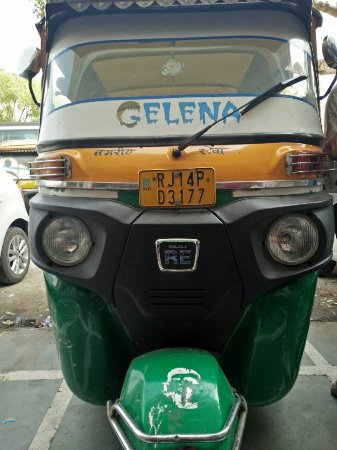doublelinenumberplate: (138, 167, 217, 207)
